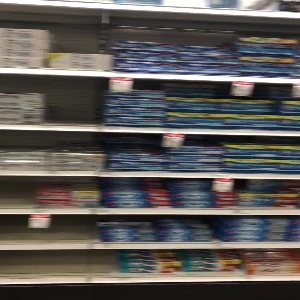void: (1, 248, 117, 280), (43, 77, 107, 129), (1, 214, 98, 246), (1, 175, 38, 213)
